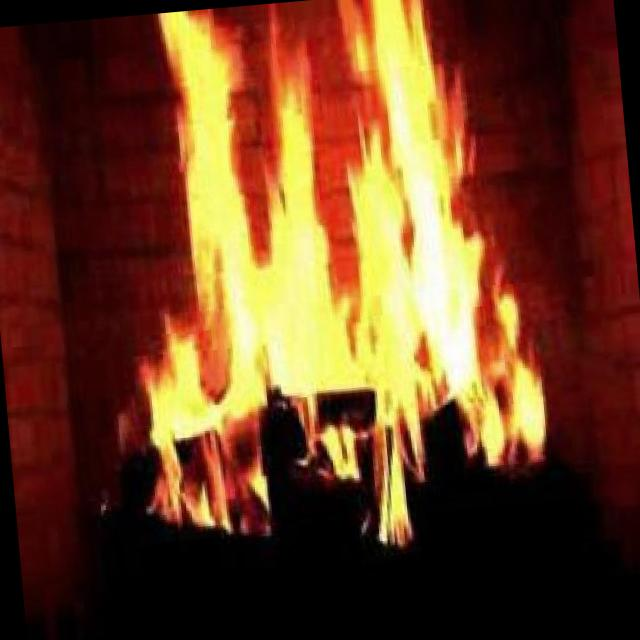Fire: (73, 0, 567, 581)
